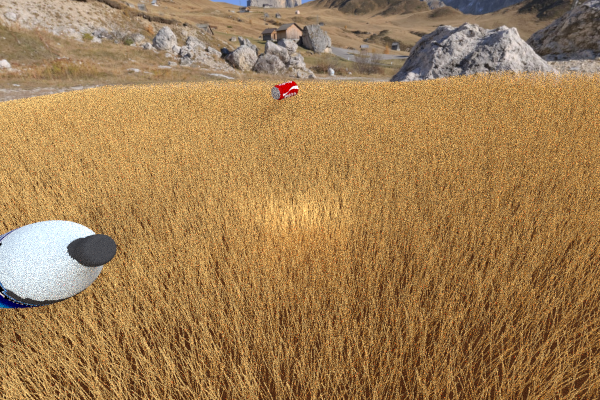bottle: (0, 220, 116, 310)
can: (167, 113, 211, 162), (271, 81, 298, 100)
